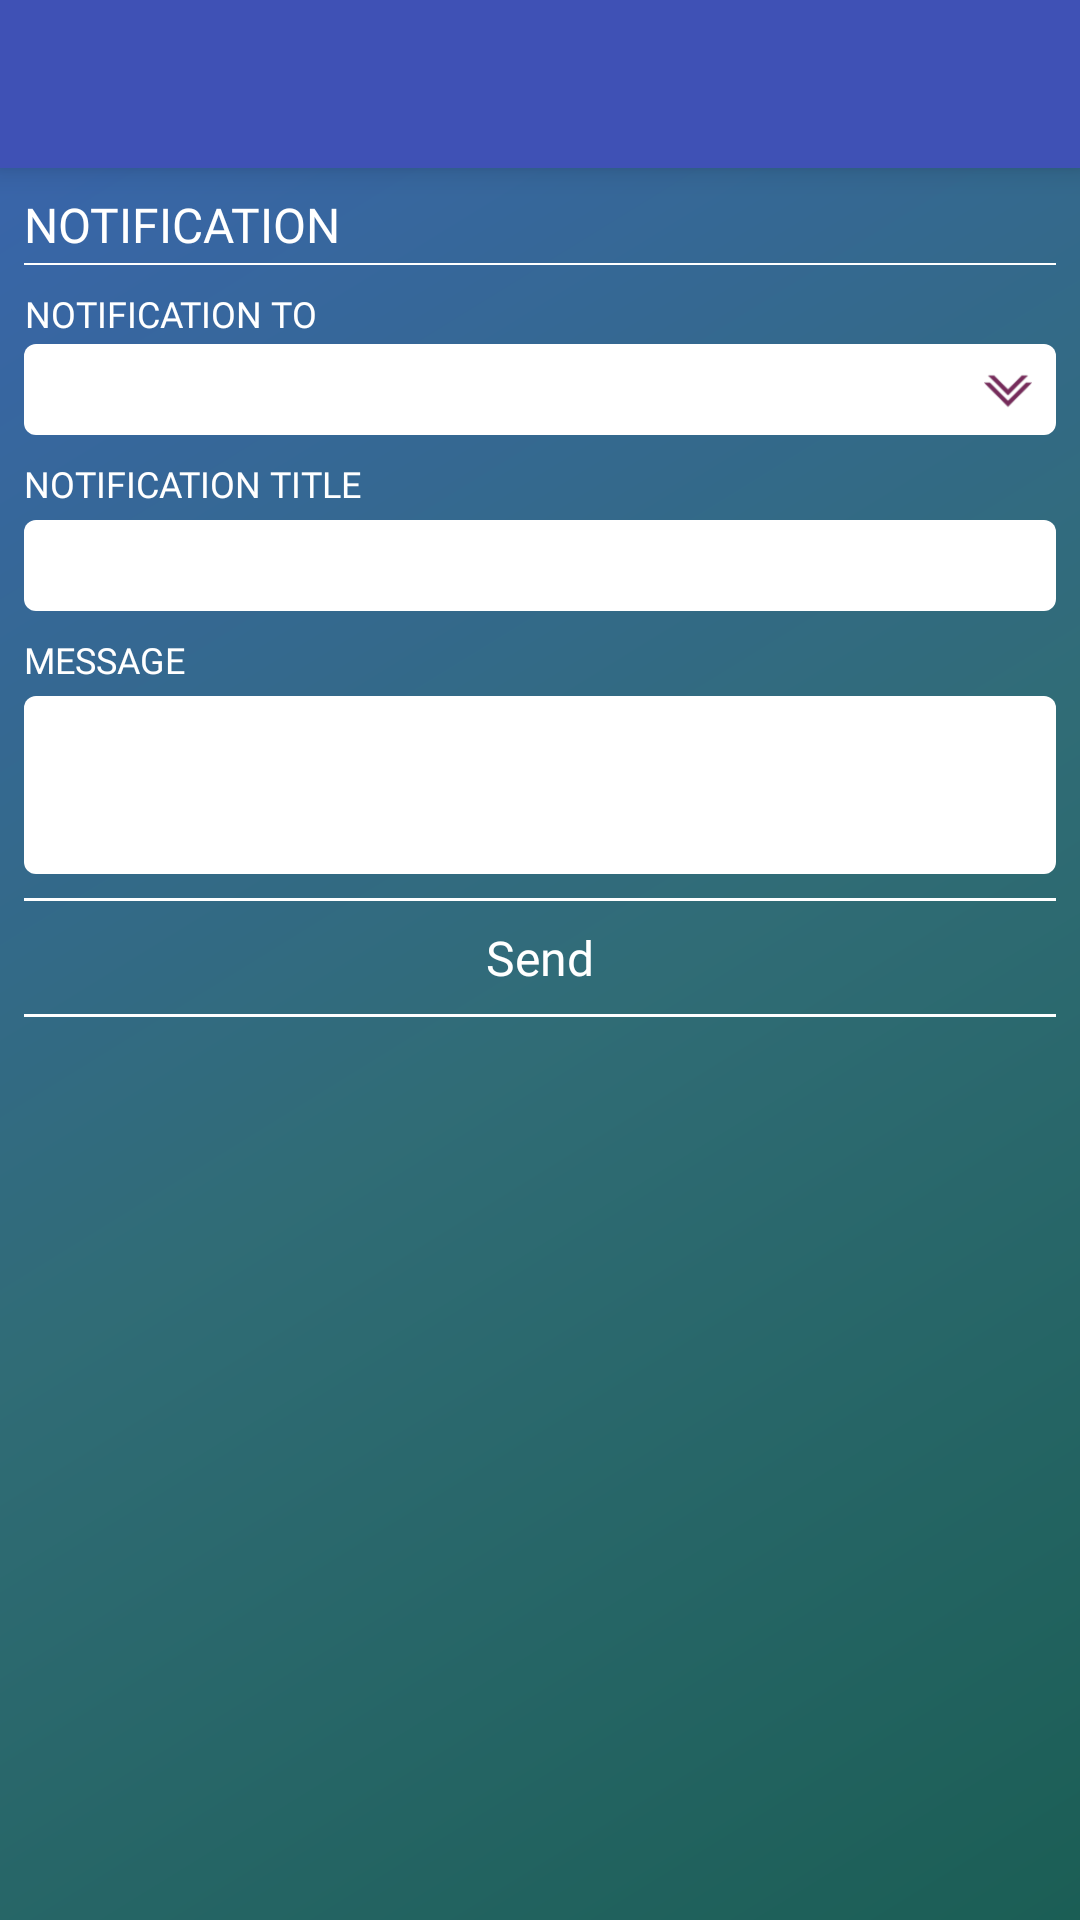

Named icons in this screenshot (1080 x 1920) and their centers, [x,y]:
down arrow: [1008,391]
